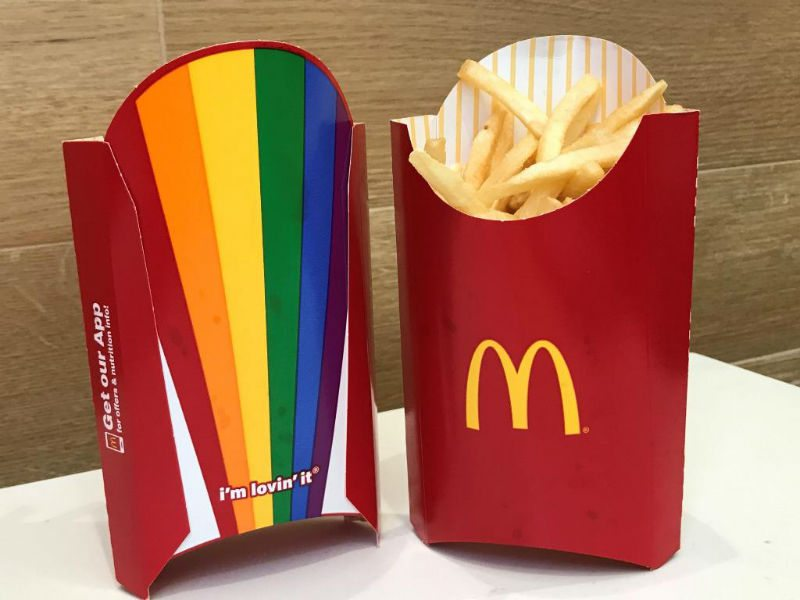mcdonalds: (460, 335, 584, 443)
